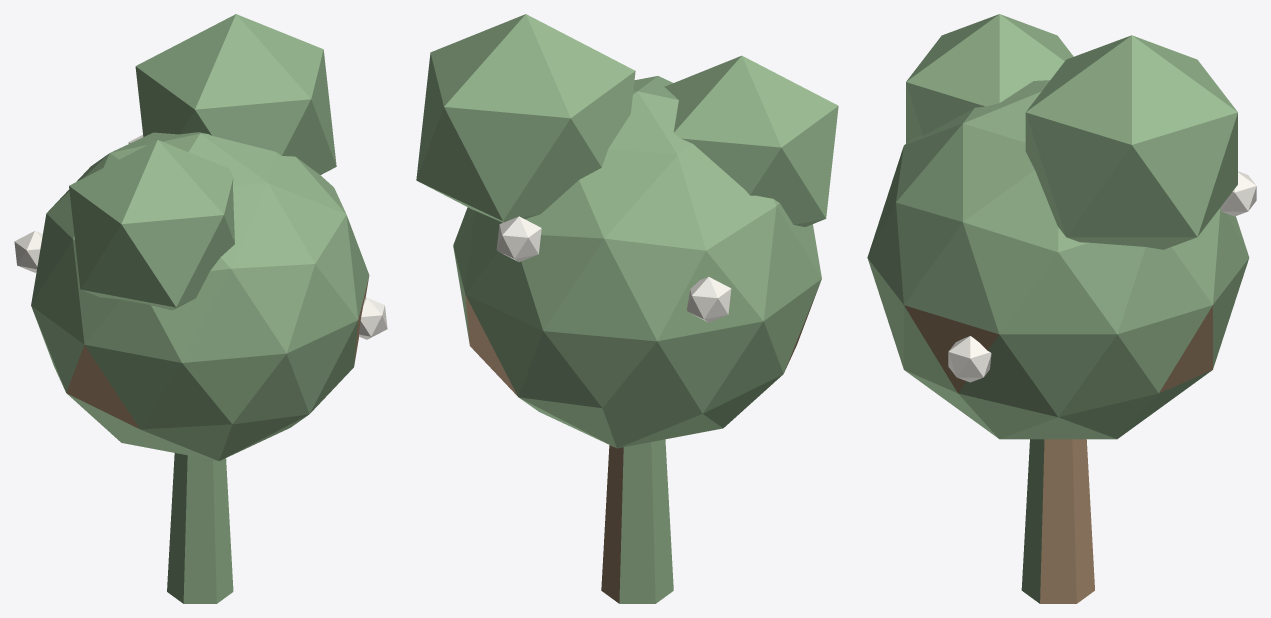
Rendered from tree.glb.
The picture shows the model from 3 angles, left to right: view 1: azimuth 30°, elevation 25°; view 2: azimuth 150°, elevation 25°; view 3: azimuth 270°, elevation 25°; orthographic projection. The views are drawn at different scales.
Visible parts, largest first — view 1: tree; view 2: tree; view 3: tree.
Part boxes in pixels (left/top/right/bottom): tree: left=14, top=14, right=387, bottom=603; tree: left=416, top=14, right=838, bottom=603; tree: left=867, top=14, right=1256, bottom=603.
Size of the model in its own units: 0.5262 by 0.89 by 0.5298.
